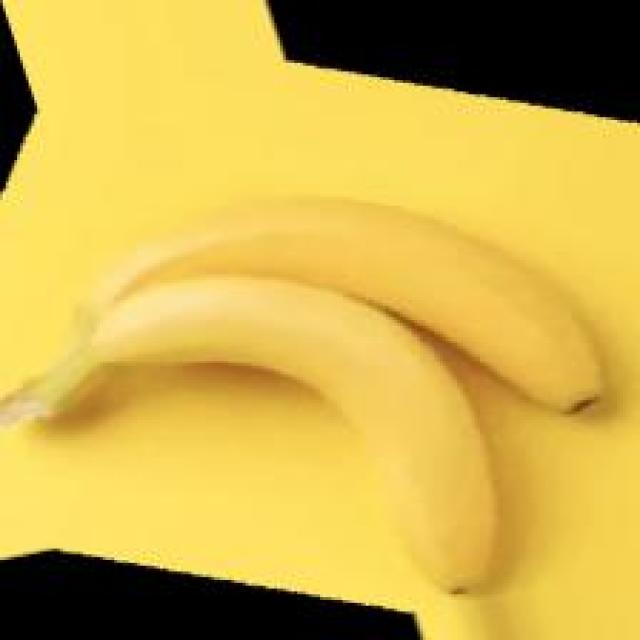banana: (66, 178, 628, 609)
